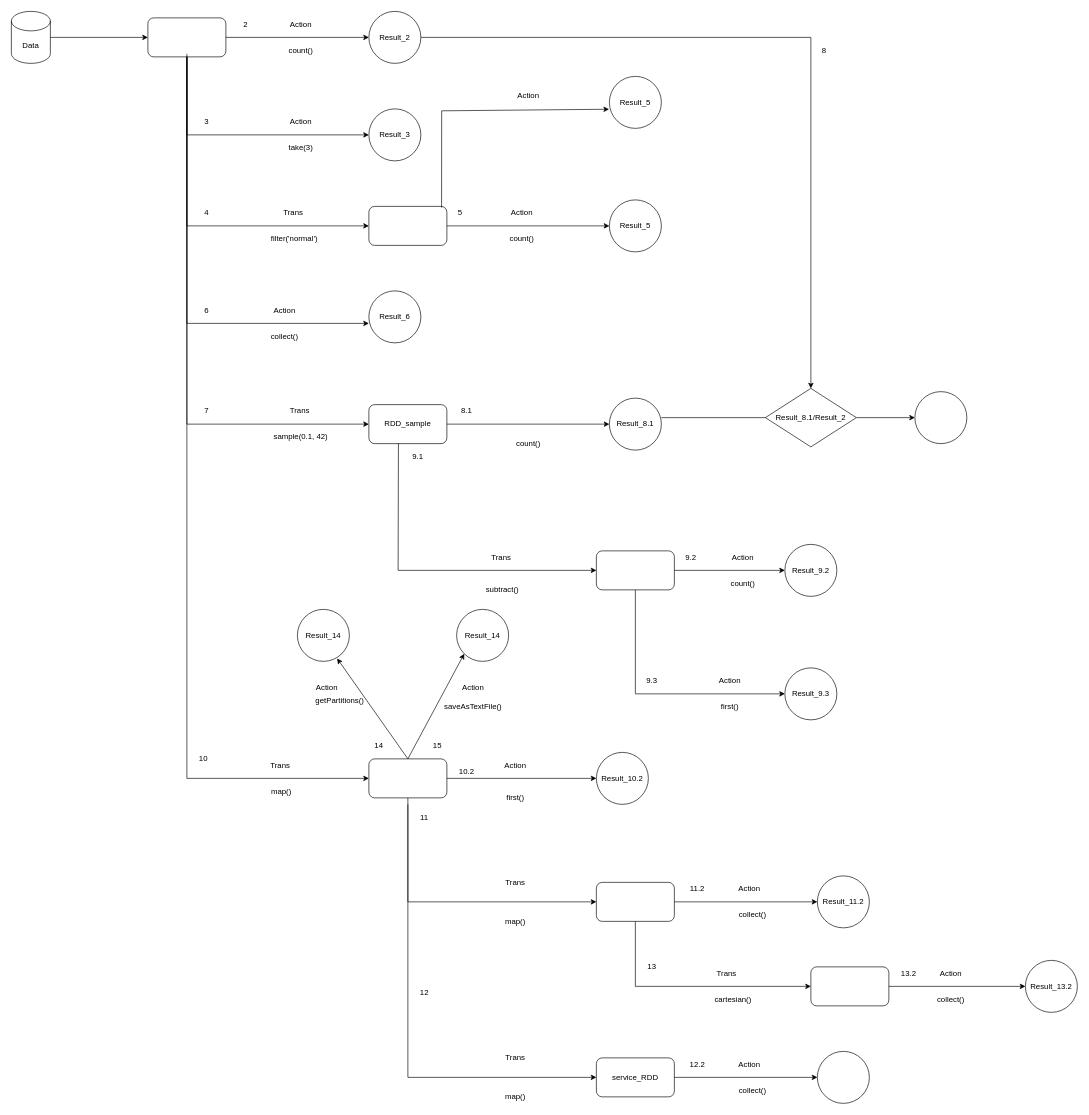
Some shapes in this 1089 by 1115 pixel diagram are drawn without their labels. The shapes that lost their labels are listed below. From the top down, each one's centre as x and y in pixels, then its label:
At point 186,37: "RDD".
At point 407,225: "RDD_normal".
At point 940,417: "Result_8".
At point 635,570: "RDD_sample_ no_normal".
At point 407,778: "array_RDD".
At point 635,901: "protocol_RDD".
At point 849,986: "product_RDD".
At point 843,1077: "Result_12.2".
